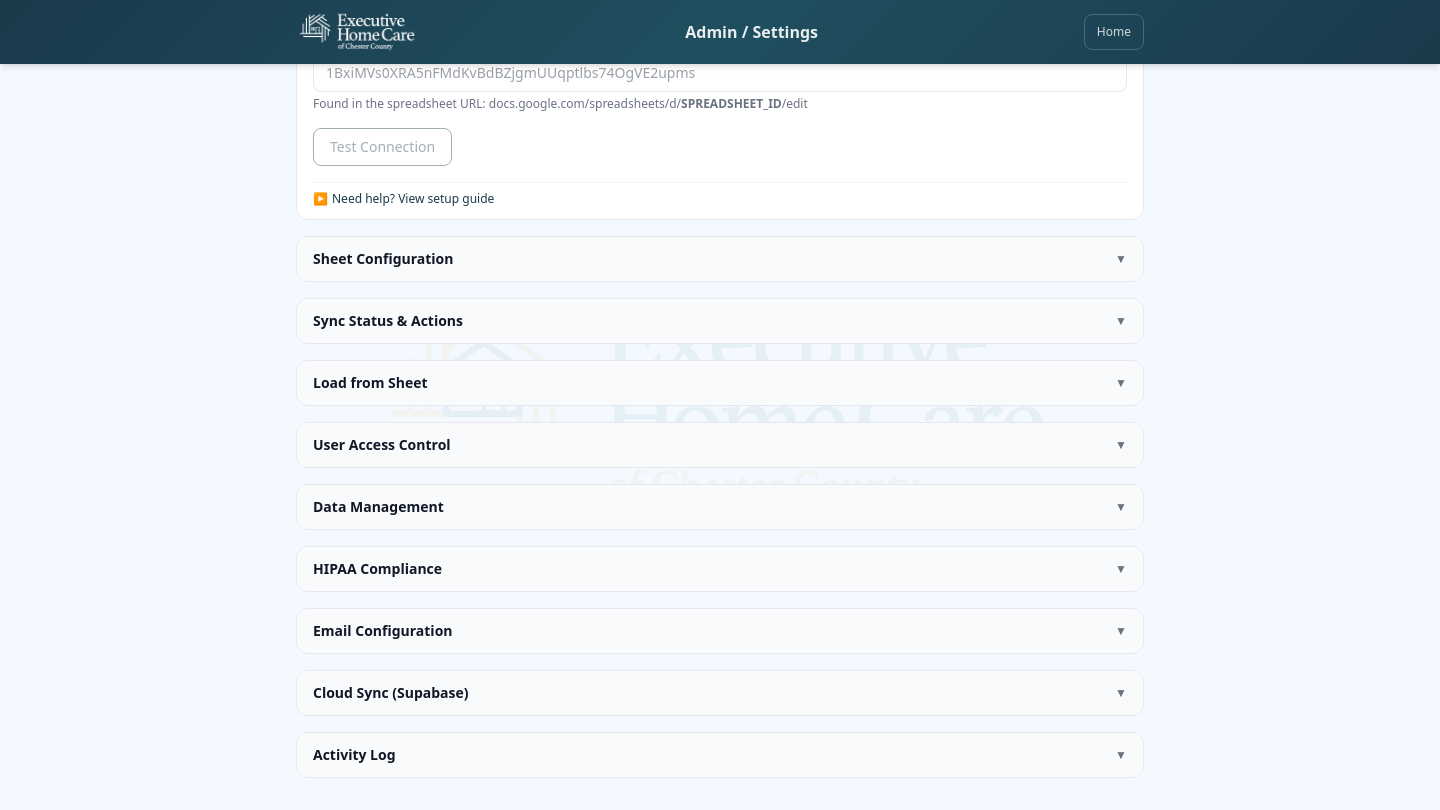
it: SettingsScreen › Supabase org info › shows user role badge as "Super Admin" for super_admin role
The image size is (1440, 810).
(page scrolled)
Click the text "Cloud Sync (Supabase)": (391, 693) [313,683,468,703]
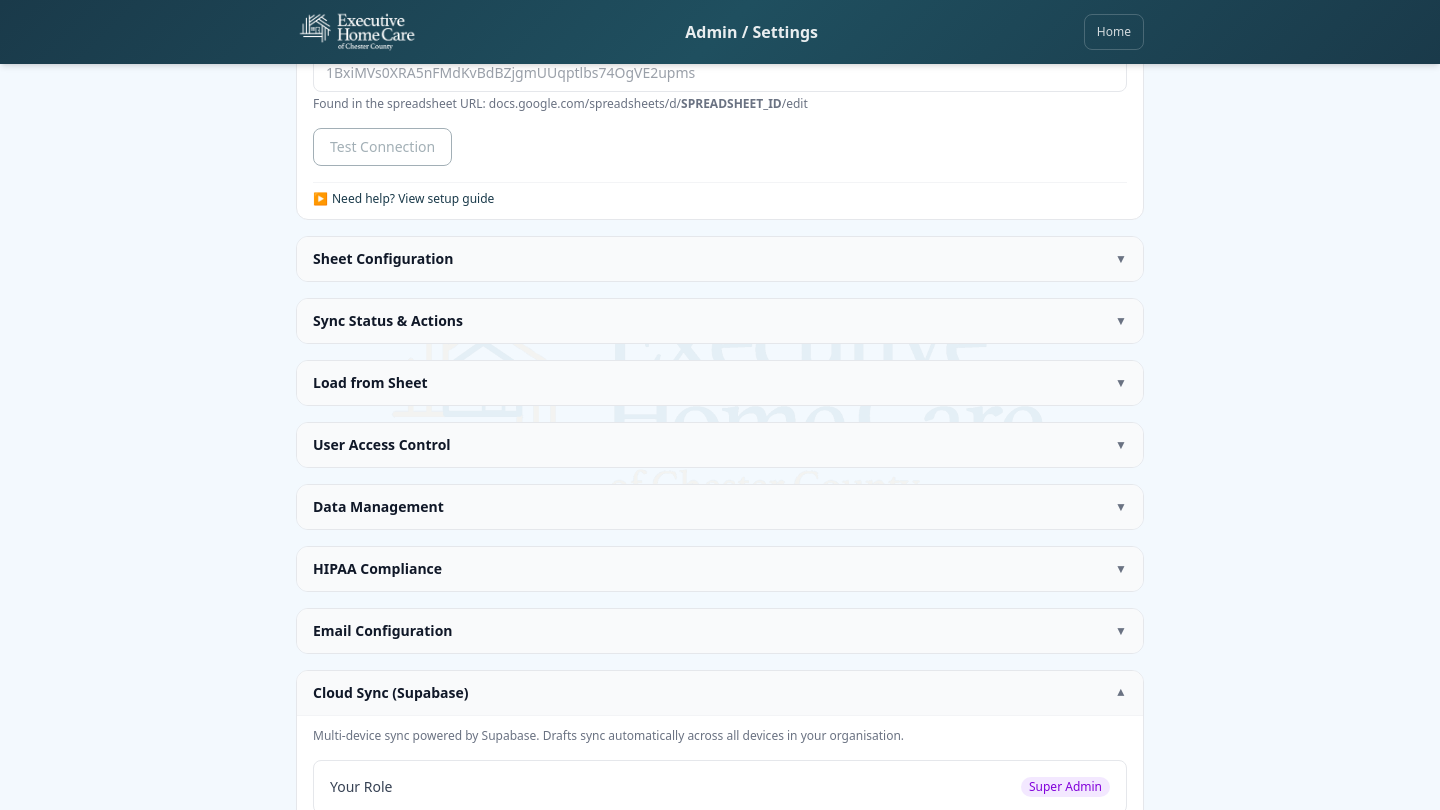
expect the text "Super Admin" is shown: met, box [1021,777,1110,797]
